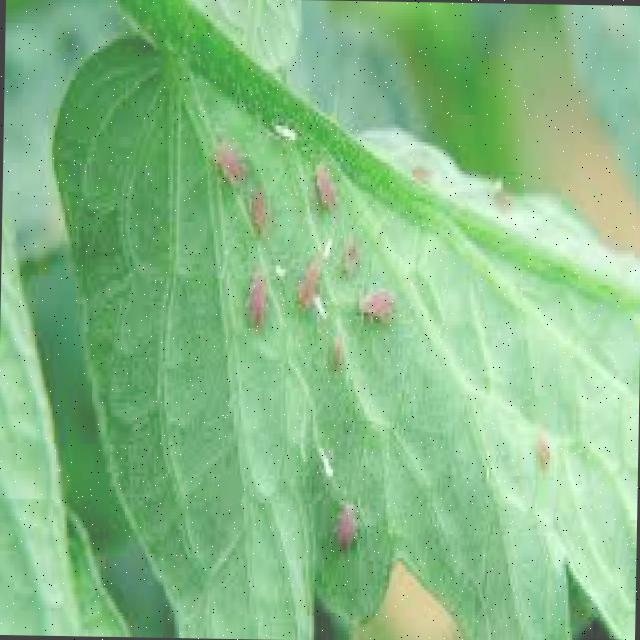whitefly: (136, 72, 634, 604)
